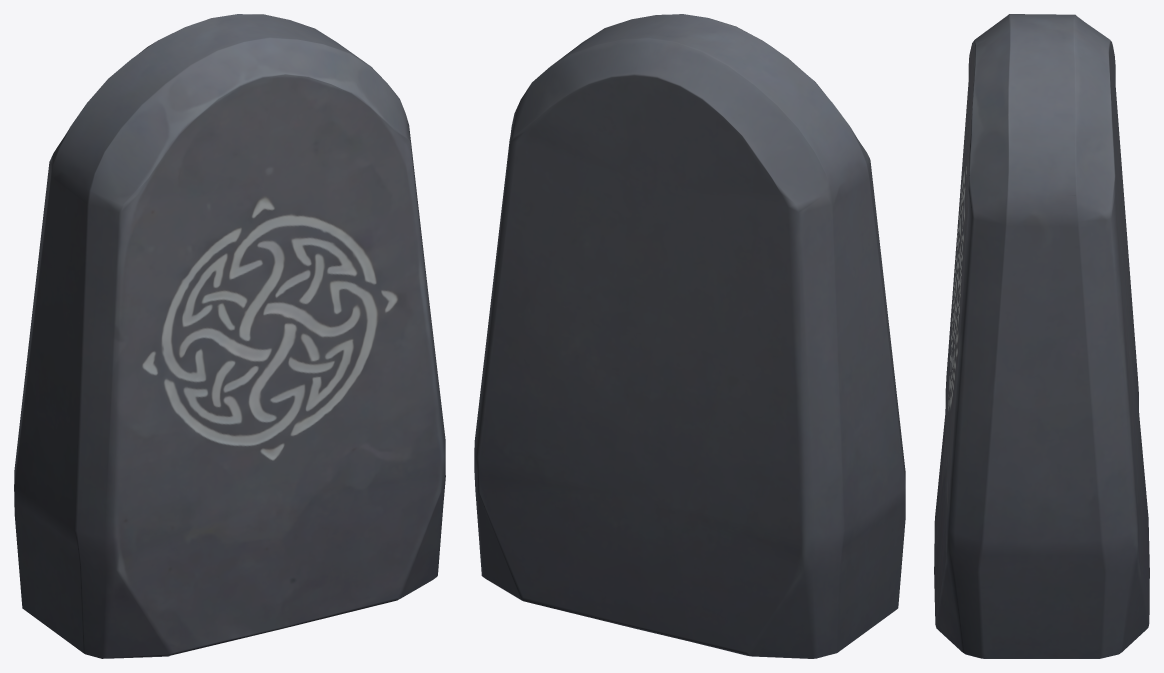
Rendered from Meshy_AI_model_20261128_texture.fbx.
The picture shows the model from 3 angles, left to right: view 1: azimuth 30°, elevation 25°; view 2: azimuth 150°, elevation 25°; view 3: azimuth 270°, elevation 25°; orthographic projection. The views are drawn at different scales.
Visible parts, largest first — view 1: geometry_0; view 2: geometry_0; view 3: geometry_0.
Part boxes in pixels (box(x1,y1,x2,y2)): geometry_0: box(14, 14, 445, 658); geometry_0: box(474, 14, 905, 658); geometry_0: box(934, 14, 1149, 658).
Size of the model in its own units: 69.22 by 100 by 35.94.
1 material, 1 textured.
